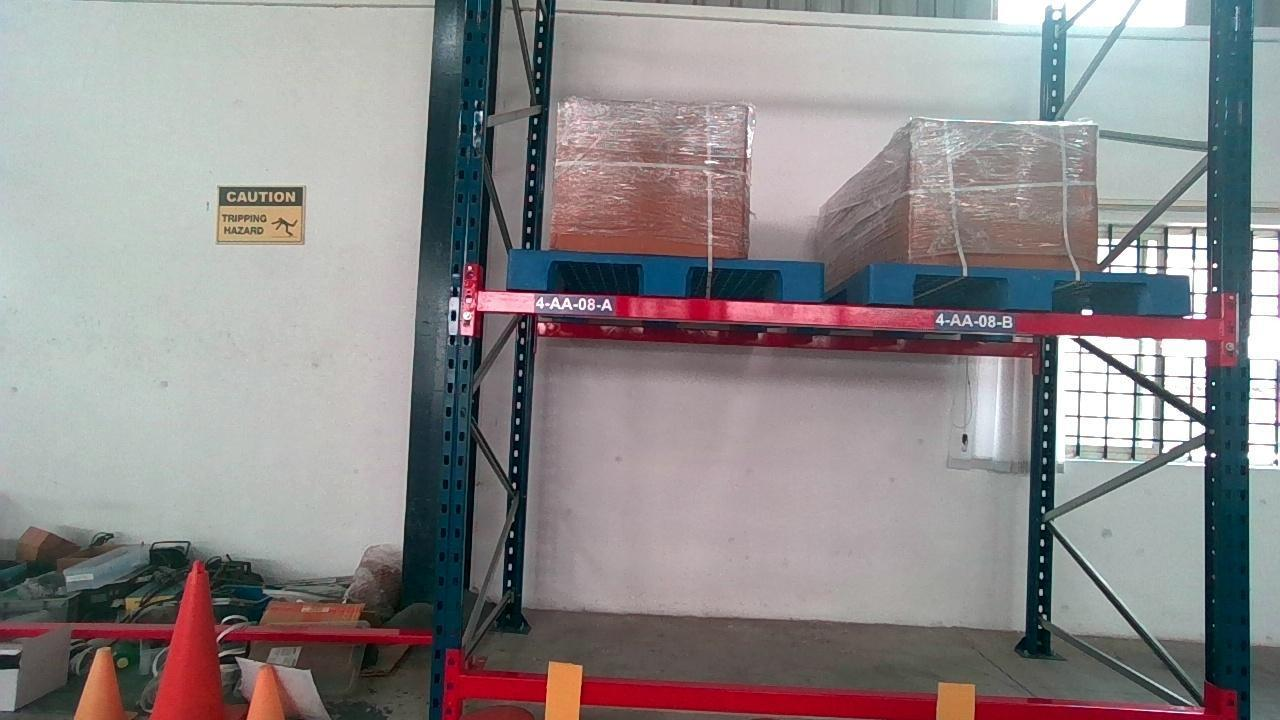h_rack: (474, 290, 1214, 342), (457, 669, 1209, 720)
orange_strip: (545, 663, 581, 720), (934, 682, 977, 720)
small_pallet: (507, 254, 818, 296), (871, 267, 1189, 308)
